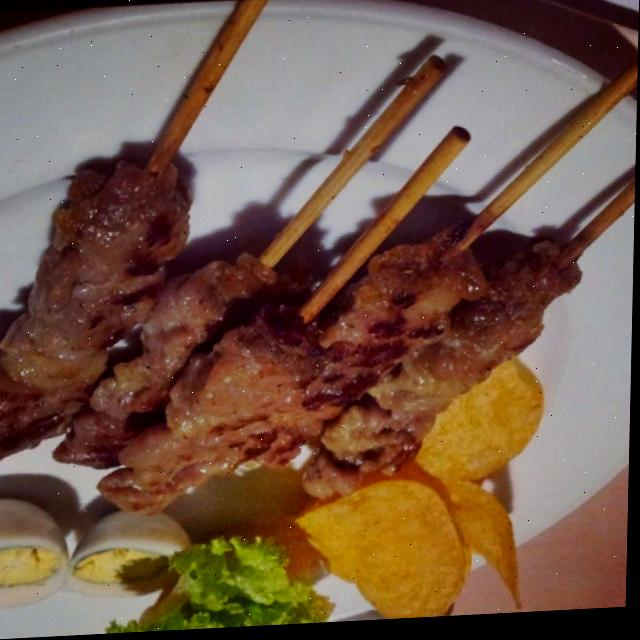牛肉菜式: (0, 0, 636, 638)
